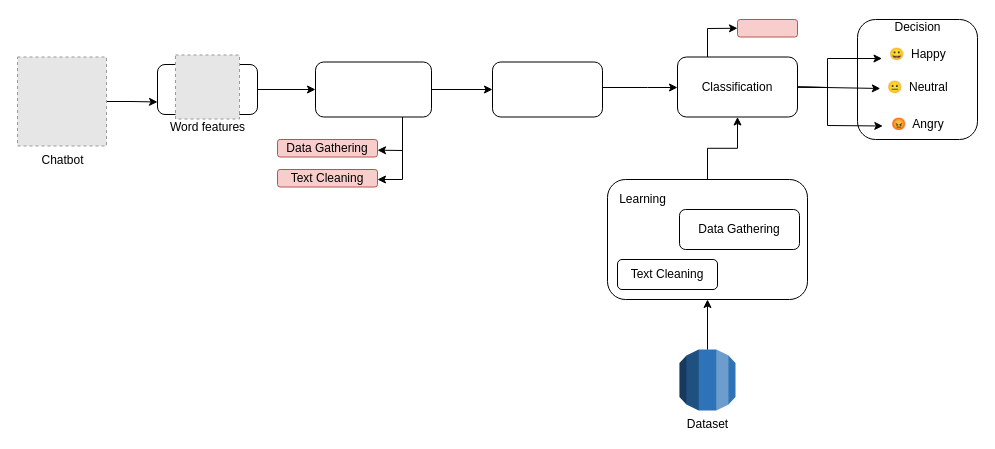
This 995x449 diagram has some shape labels left out. Grey dashed boxes stand in for pictures. The shapes that lost their labels are listed below. From the top down, each one's centre as x and y in pixels, then its label:
At point (767, 27): "LSTM".
At point (373, 89): "Data Preparation".
At point (547, 89): "Feature extraction".
